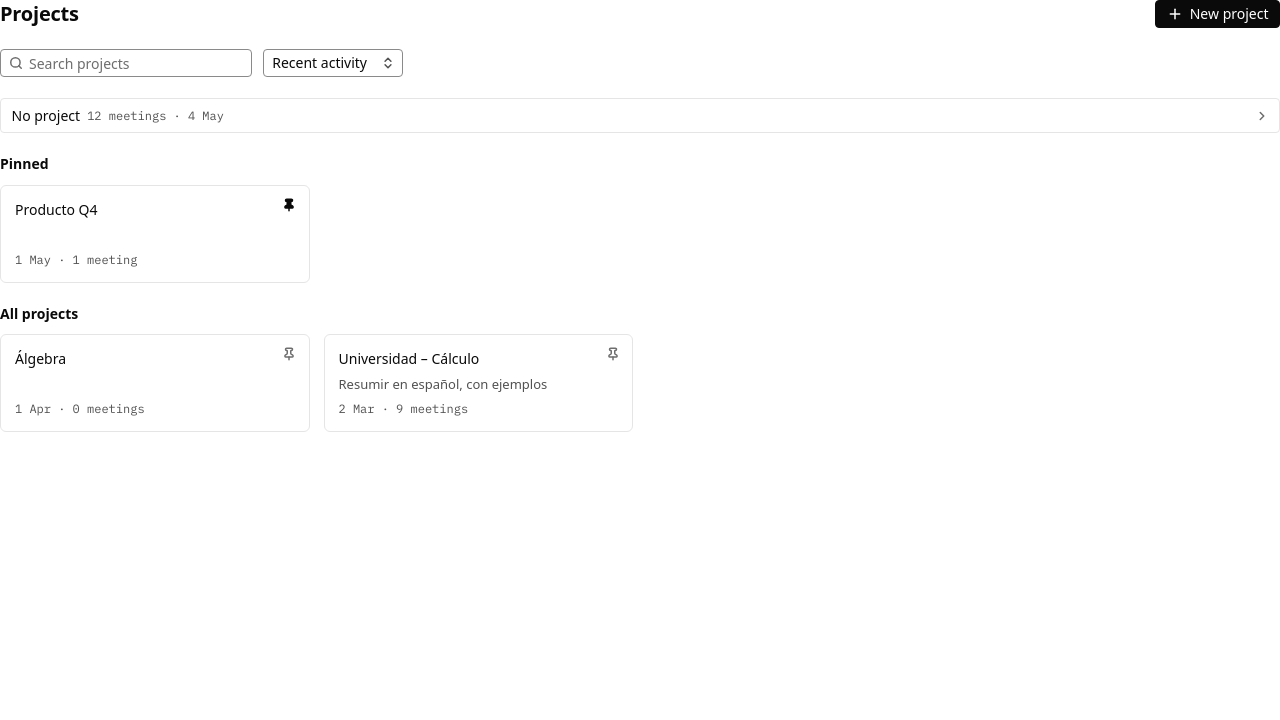
Test: New project popover › says the name is taken, and keeps the dialog open
The image size is (1280, 720).
Click the button "New project" at [1218, 14], box [1155,0,1279,28]
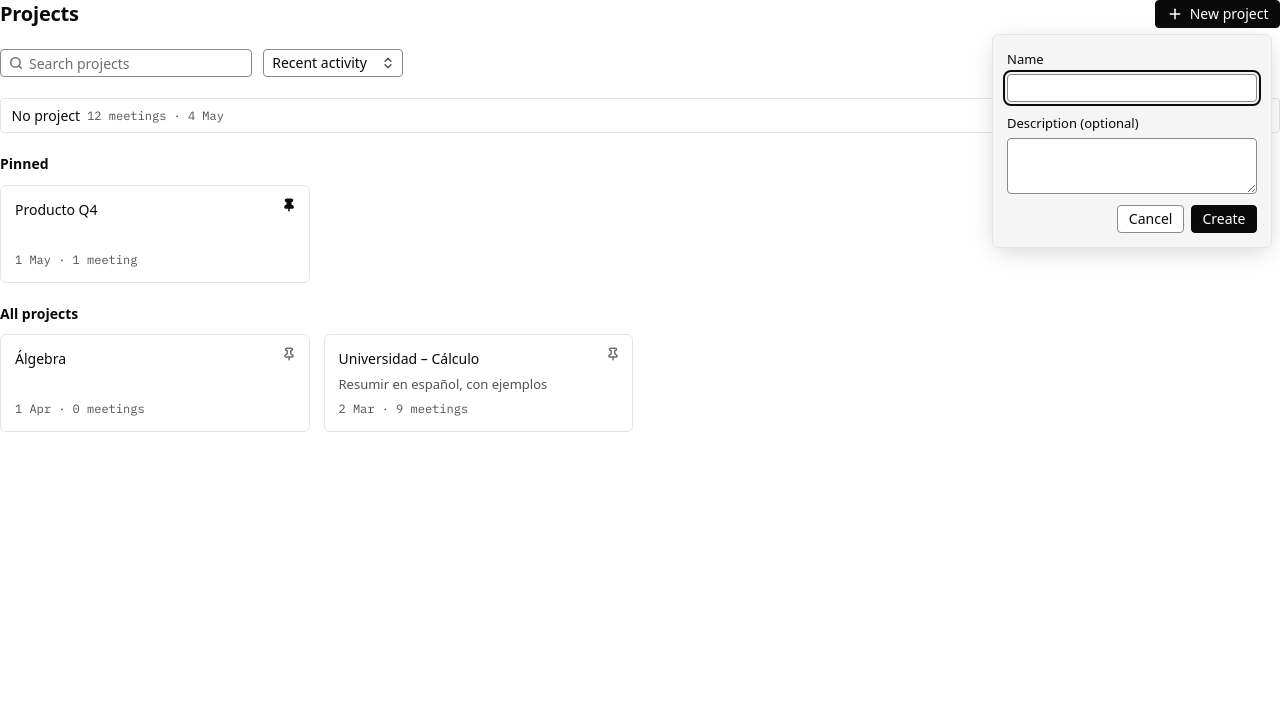
Type "producto q4" into the field labelled "Name" at [1132, 88], box [1007,74,1257,102]
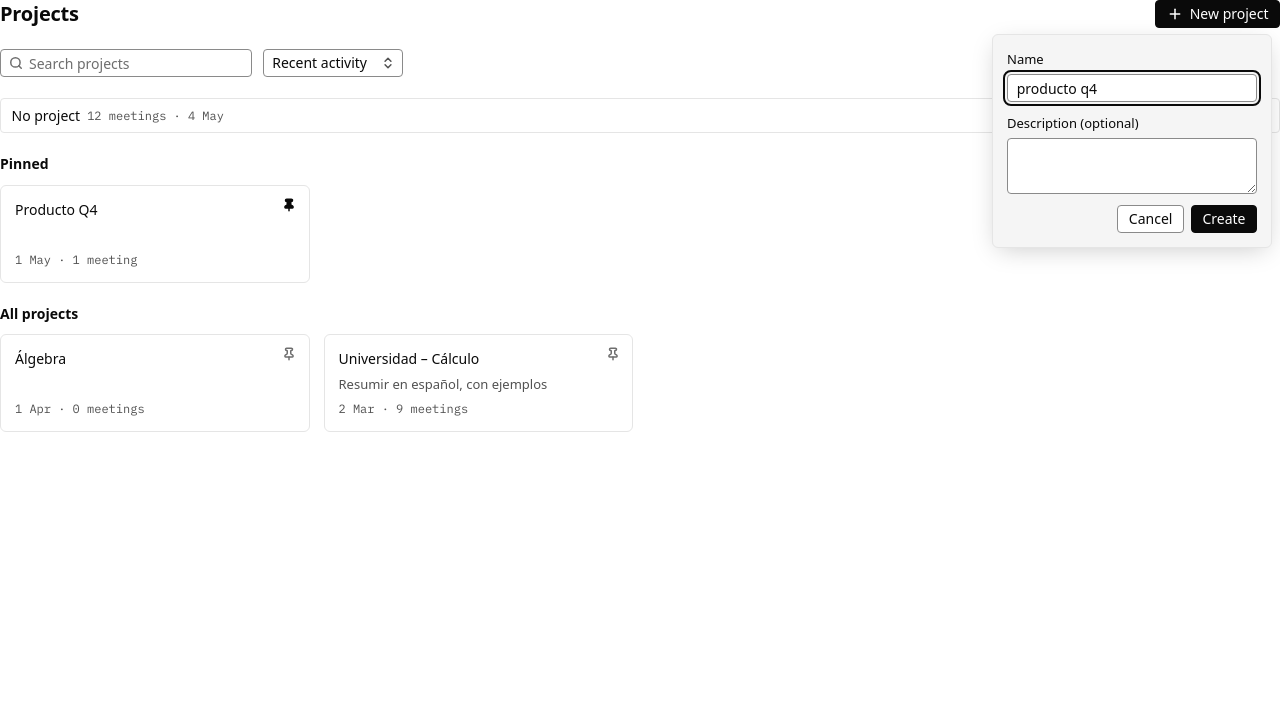
Press Enter
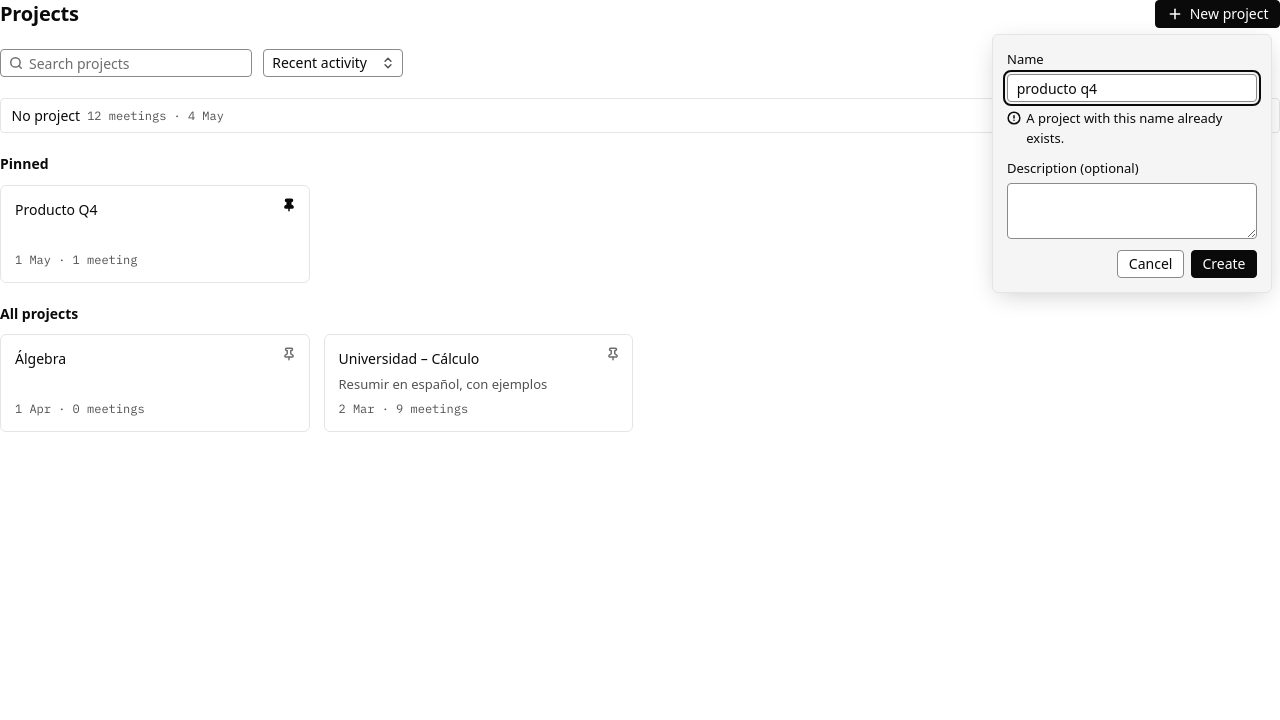
Result: the dialog named "New project" is shown at [992,34,1272,293]
Result: the text "A project with this name already exists." is shown at [1026,108,1257,148]
